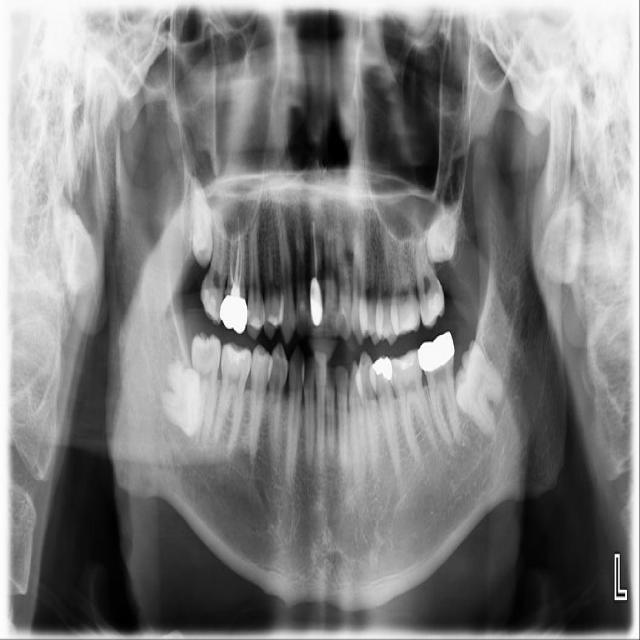Crown: (416, 331, 456, 373), (220, 284, 248, 334), (310, 279, 324, 338)
Filling: (199, 266, 226, 325), (417, 275, 445, 330), (390, 294, 421, 337), (262, 284, 284, 339), (247, 286, 265, 340), (220, 340, 252, 367), (296, 290, 311, 337), (335, 298, 352, 339), (372, 357, 396, 385), (391, 350, 418, 373)
Root Canal Treatment: (234, 219, 240, 281), (239, 229, 243, 288), (312, 225, 315, 278), (231, 232, 234, 281)
impacted tooth: (453, 341, 504, 440), (158, 360, 199, 433), (186, 173, 216, 262), (421, 196, 460, 259)
